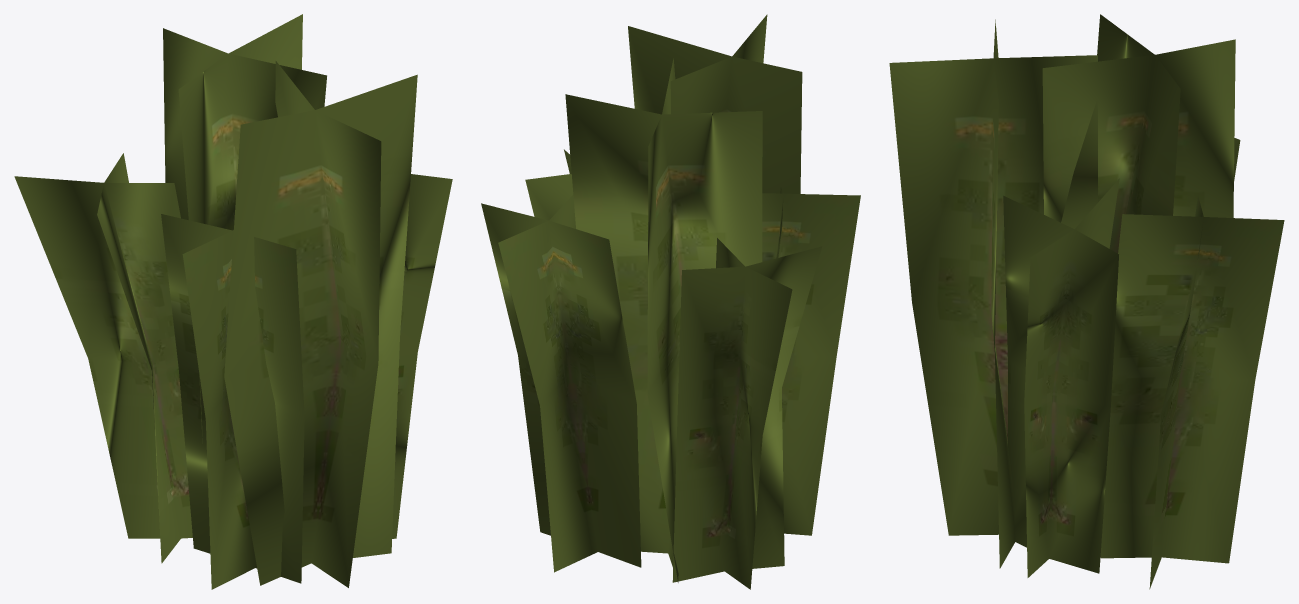
Rendered from KM_VOB_PLANT_01.glb.
3 views of the same model, side by side, from view 1: azimuth 30°, elevation 25°; view 2: azimuth 150°, elevation 25°; view 3: azimuth 270°, elevation 25° (orthographic). The views are drawn at different scales.
Parts seen in each view (by area): view 1: Mesh; view 2: Mesh; view 3: Mesh.
Boxes of the visible parts, x1=… form: Mesh: x1=14, y1=14, x2=452, y2=589; Mesh: x1=481, y1=14, x2=860, y2=589; Mesh: x1=889, y1=14, x2=1284, y2=589.
Size of the model in its own units: 1.03 by 1.38 by 1.03.
1 material, 1 textured.
